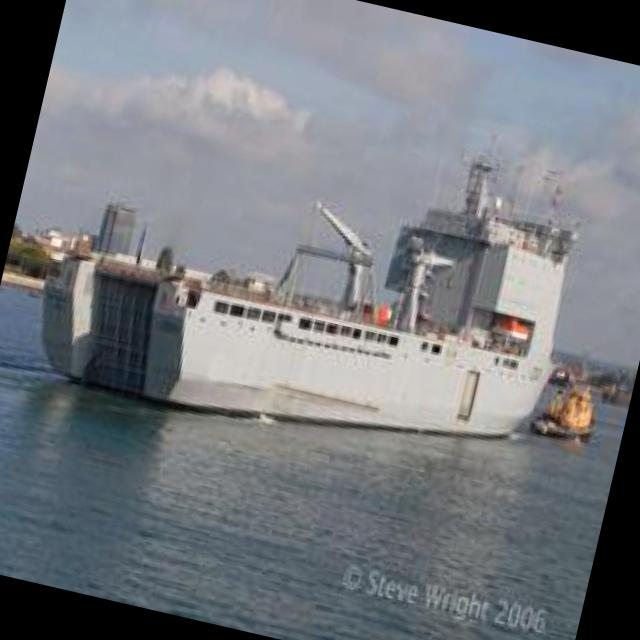boat: (12, 216, 590, 478)
